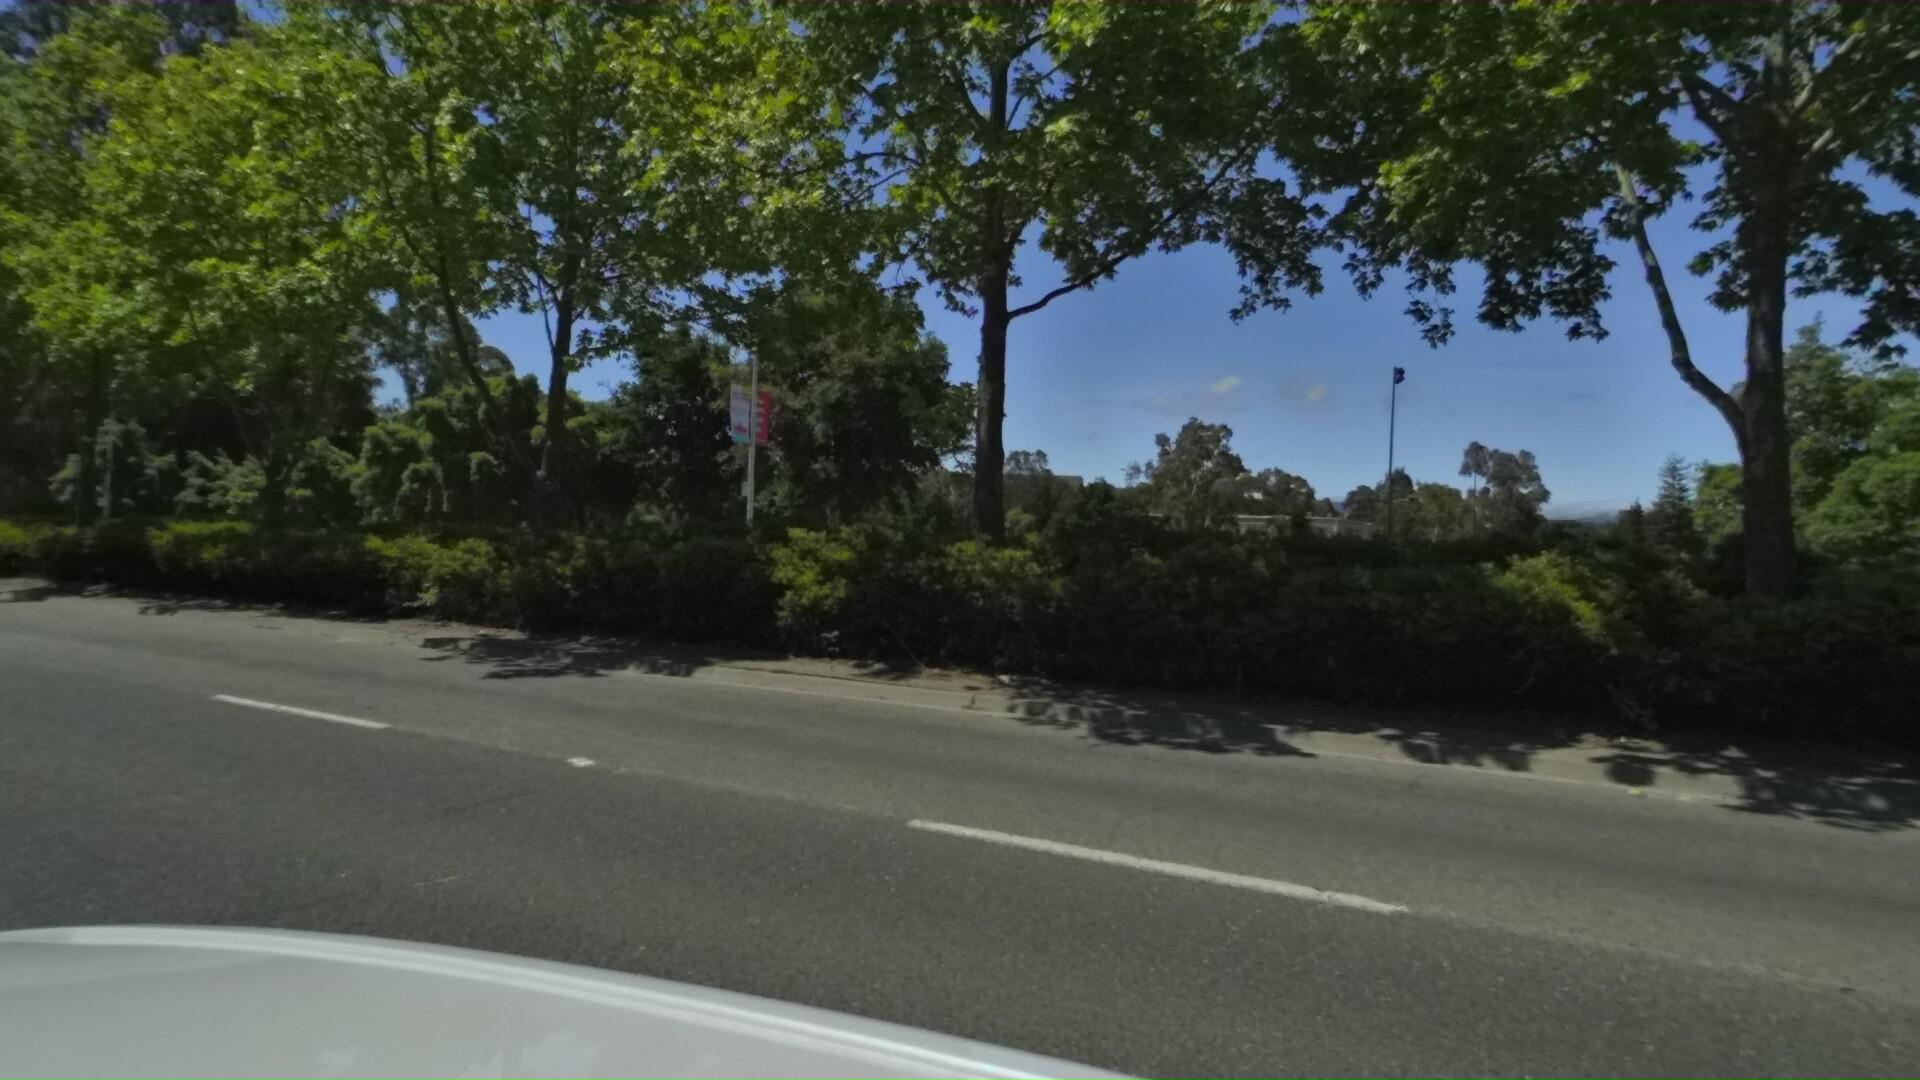car: (0, 502, 15, 607)
